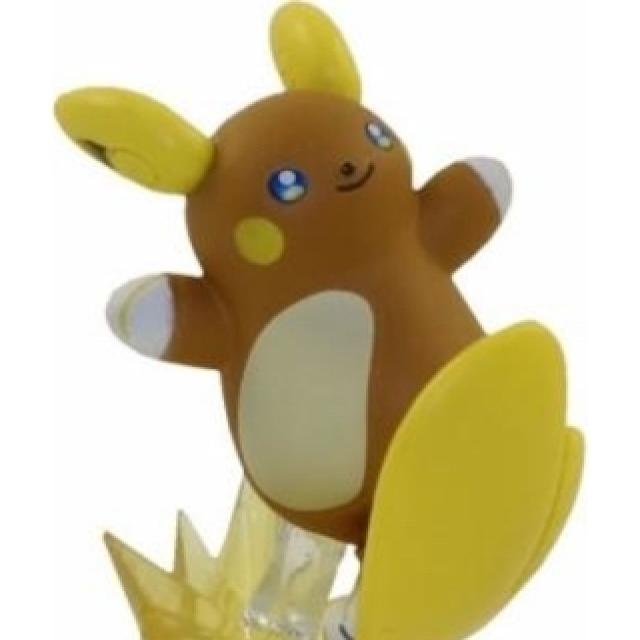Raichu: (81, 51, 571, 600)
